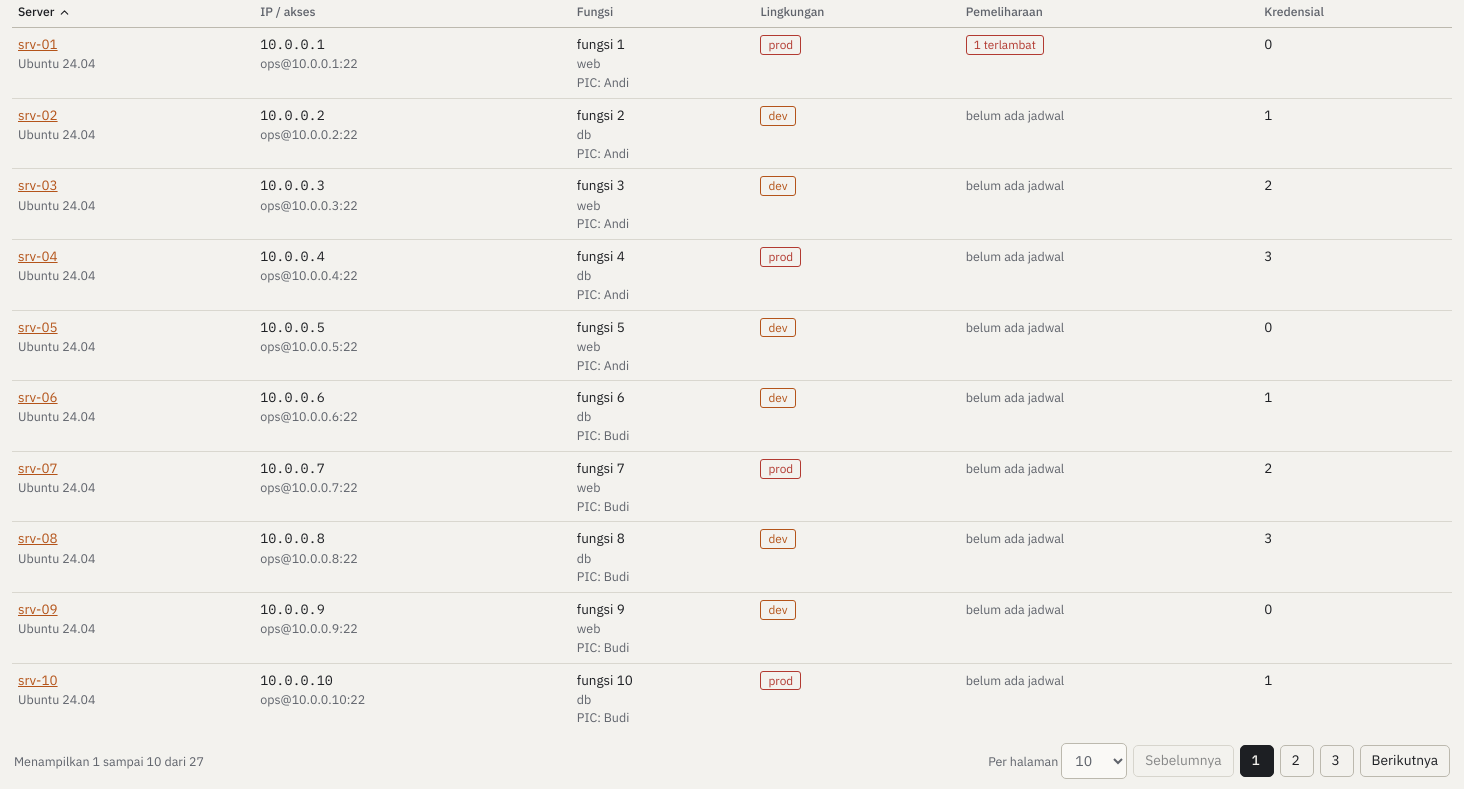
Test: InventoryPage: tabel server › menampilkan 10 baris pertama dengan penomoran halaman; pindah halaman dan ubah ukuran halaman
(page scrolled)
Expected: the text "Menampilkan 1 sampai 10 dari 27" is shown, [14,752,204,770]
Expected: the row that starts with "srv-01" is shown, [18,35,58,53]
Click the button named "Halaman 3" at (1336, 761), box [1320,745,1354,777]
(page scrolled)
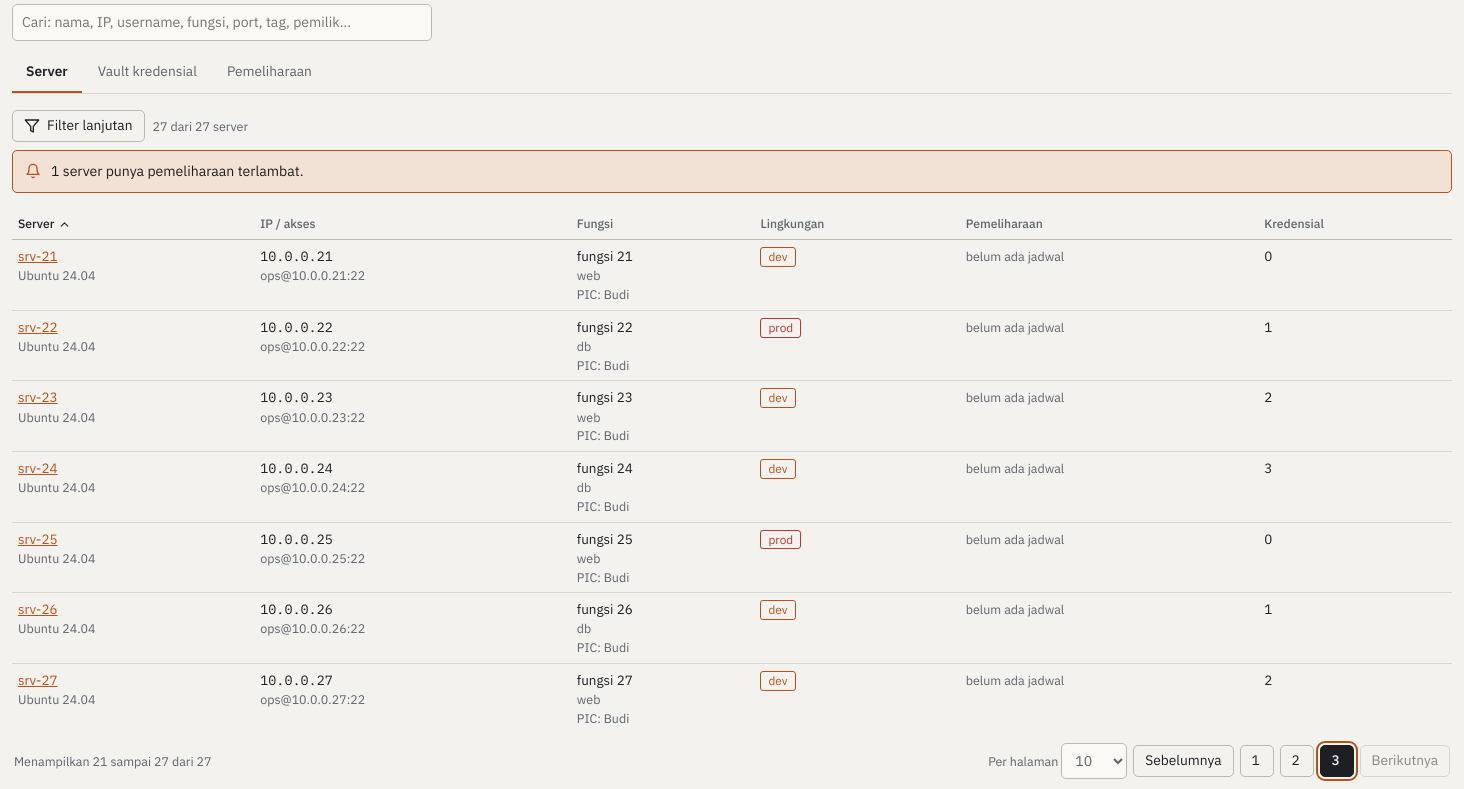
Result: the text "Menampilkan 21 sampai 27 dari 27" is shown at [14,752,211,771]
Result: the button with aria-label "Halaman berikutnya" is disabled at [1360,746,1450,777]
Click the button with aria-label "Halaman sebelumnya" at (1183, 761), box [1133,746,1234,777]
(page scrolled)
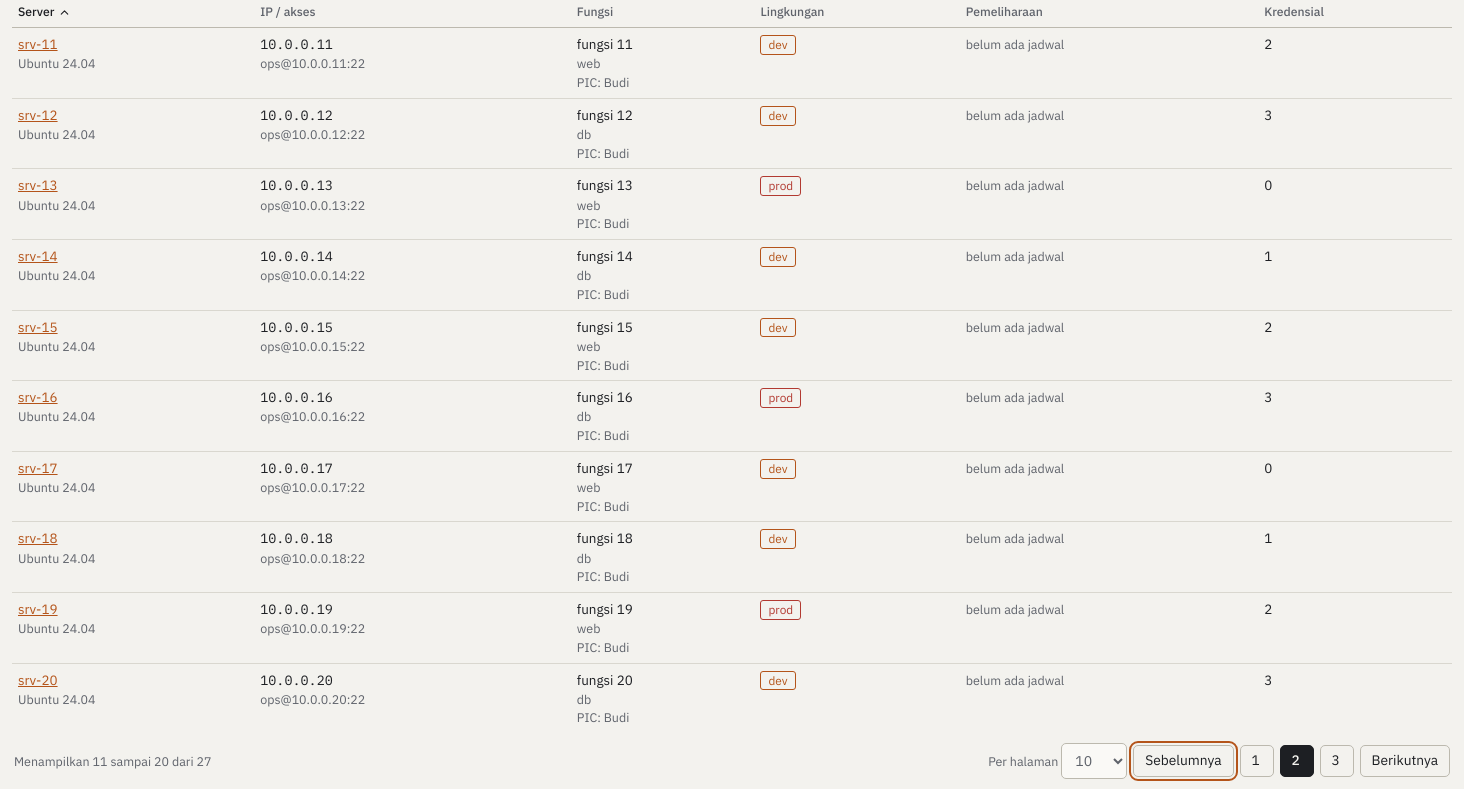
Result: the text "Menampilkan 11 sampai 20 dari 27" is shown at [14,752,211,770]
Select "25" in the dropdown named "Baris per halaman" at (1094, 761), box [1061,743,1127,779]
(page scrolled)
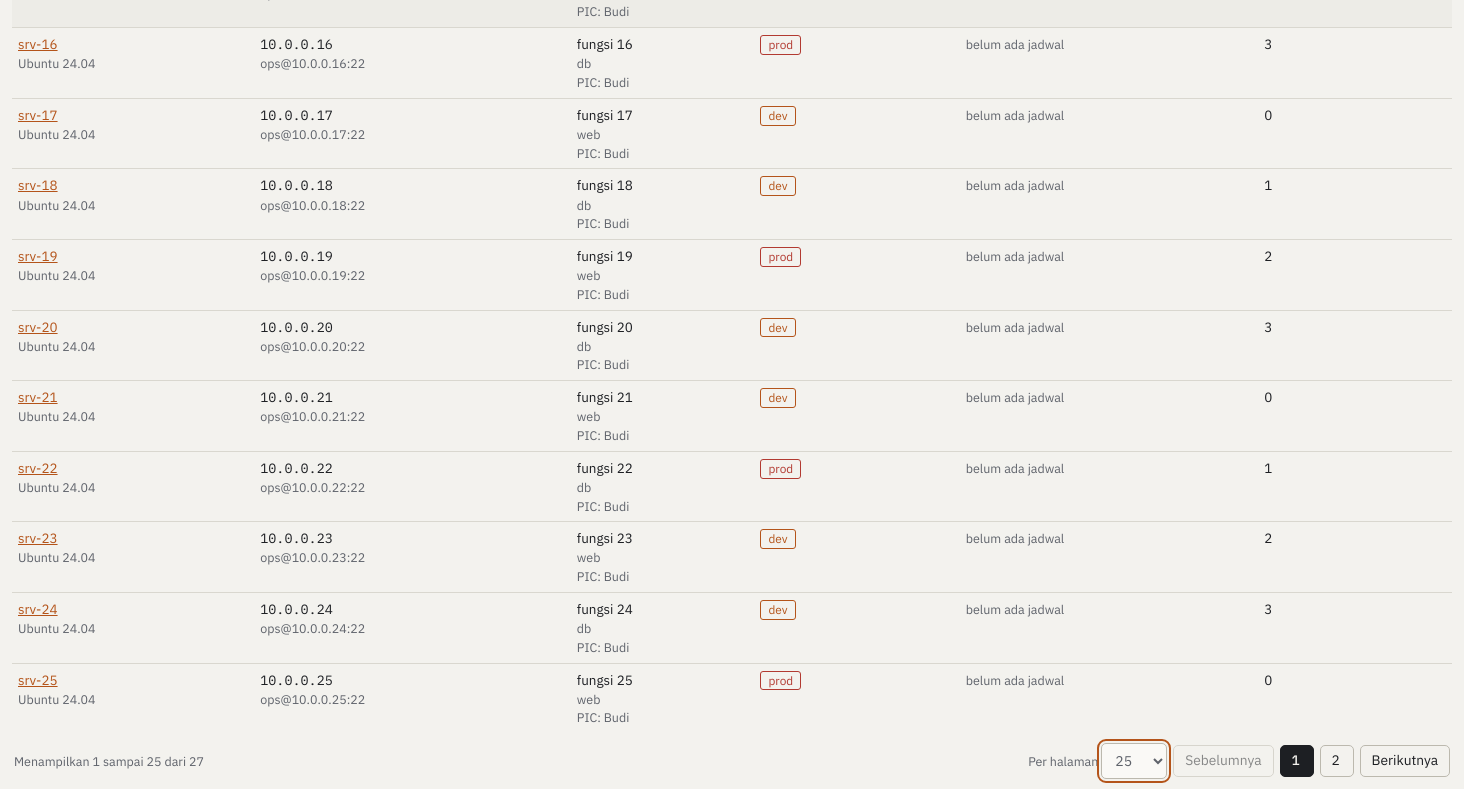
Result: the text "Menampilkan 1 sampai 25 dari 27" is shown at [14,752,204,770]
